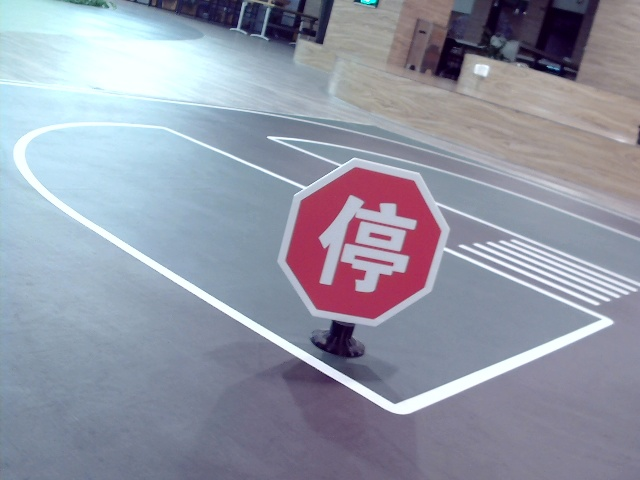stop: (311, 191, 412, 289)
